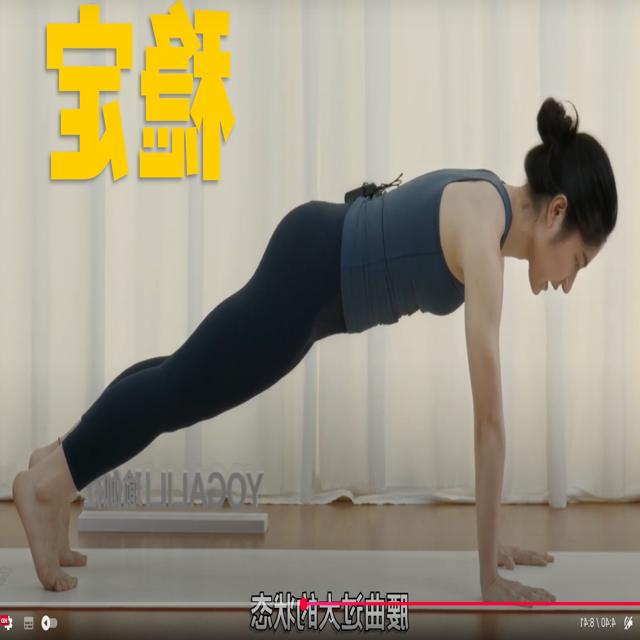Plank_Pose: (6, 101, 626, 617)
